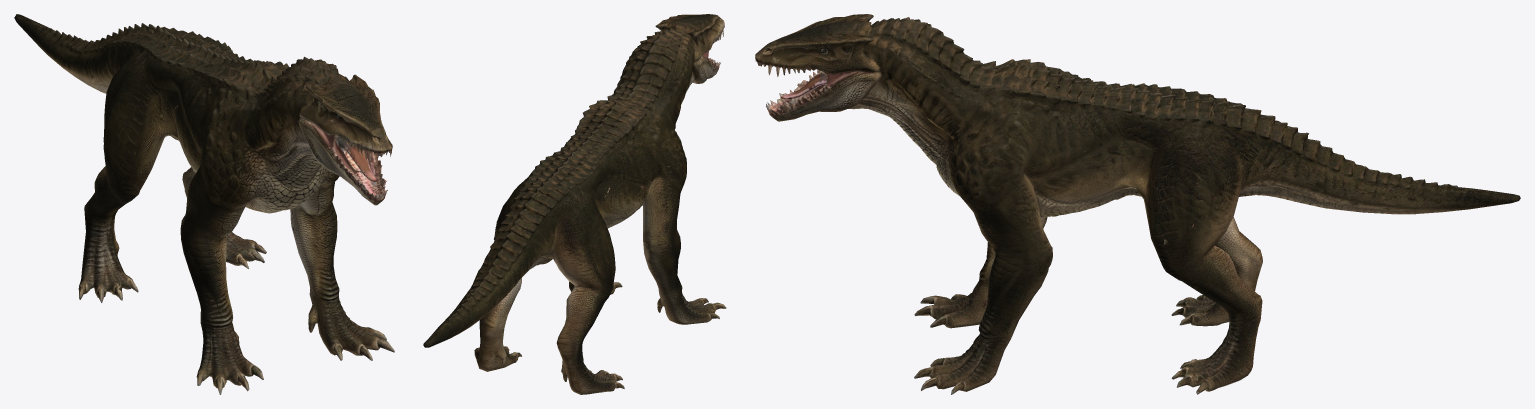
Rendered from giant-lizard.glb.
3 views of the same model, side by side, from view 1: azimuth 30°, elevation 25°; view 2: azimuth 150°, elevation 25°; view 3: azimuth 270°, elevation 25° (orthographic). The views are drawn at different scales.
Size of the model in its own units: 0.5573 by 0.9062 by 1.9.
Materials: 1 (1 with a texture image).
